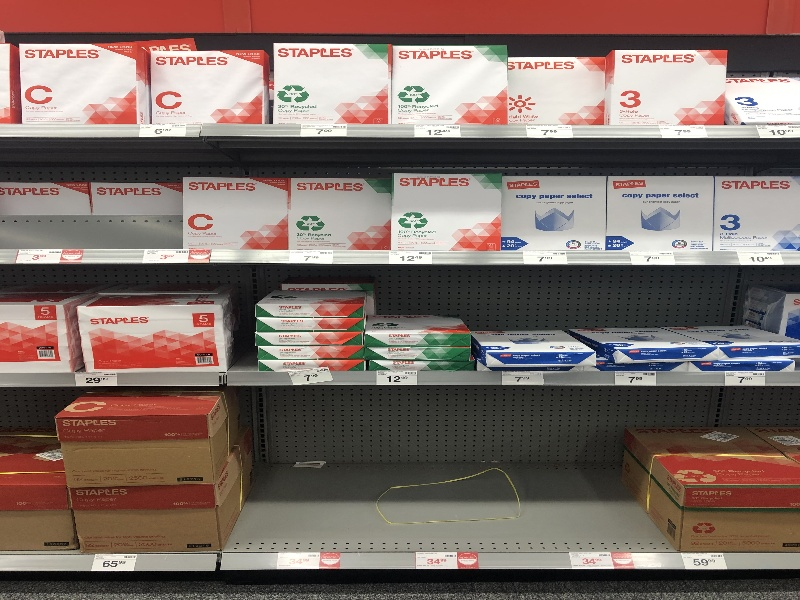void: (248, 391, 617, 548), (1, 163, 183, 245)
